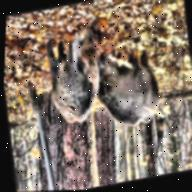boar: (39, 25, 109, 128), (87, 44, 166, 135)
